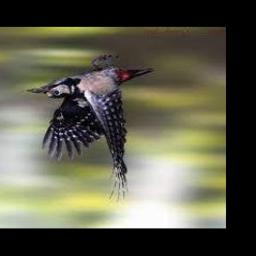Woodpecker: (27, 56, 154, 202)
